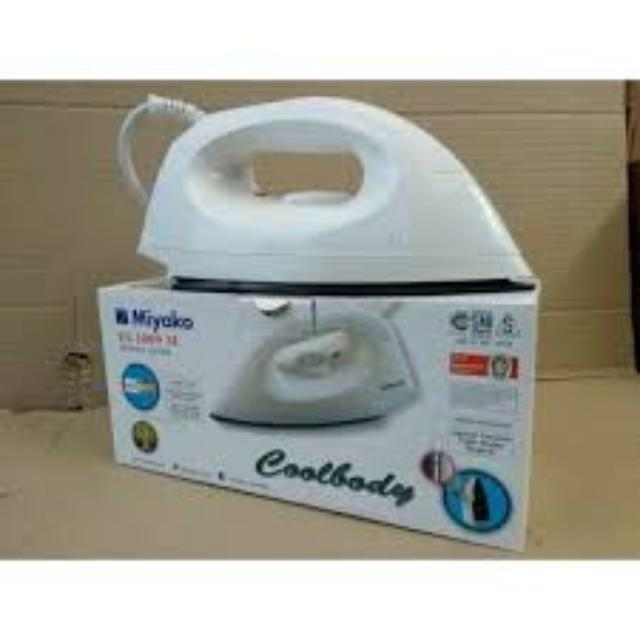Clothes-Iron: (107, 88, 548, 306)
